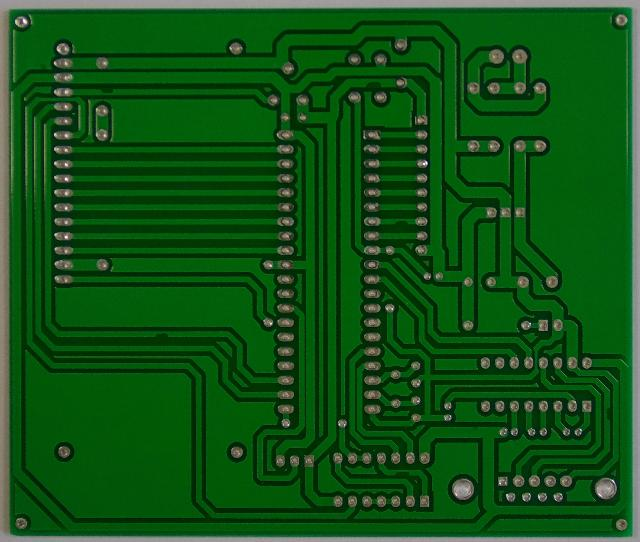mouse_bite: (360, 75, 386, 91), (148, 328, 172, 340), (390, 216, 412, 228), (392, 467, 412, 478), (98, 84, 116, 96), (602, 406, 614, 420)
